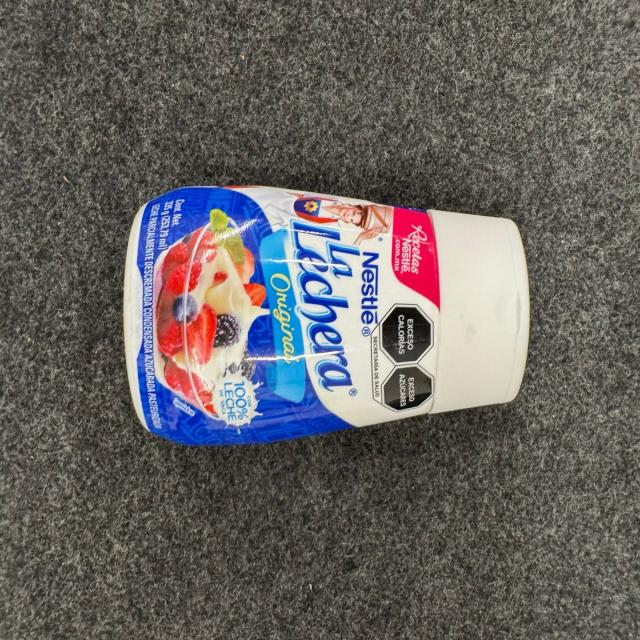La Lechera Sirve Facil 335gr Bote: (122, 184, 530, 448)
